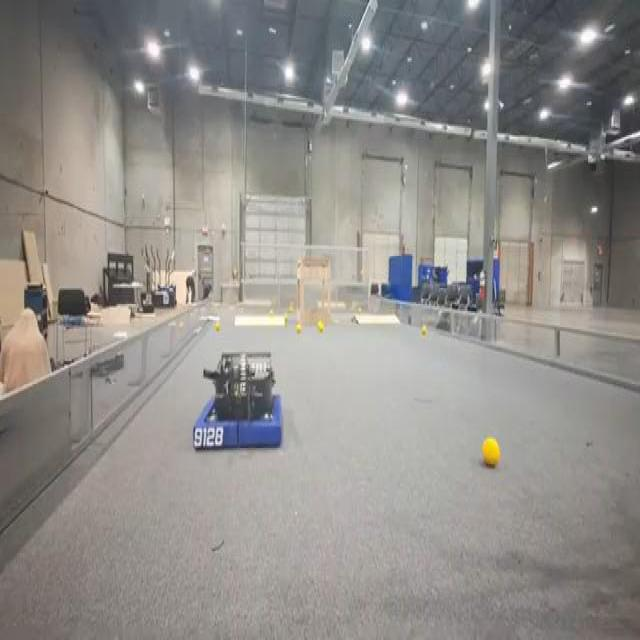Fuel: (482, 437, 500, 467), (482, 437, 499, 466), (317, 320, 323, 331), (317, 321, 323, 332), (296, 324, 302, 334), (296, 324, 302, 333), (421, 326, 426, 334), (215, 322, 220, 329)
